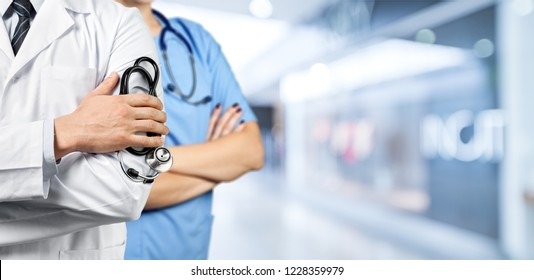doctor: (0, 1, 165, 259), (155, 0, 264, 259)
